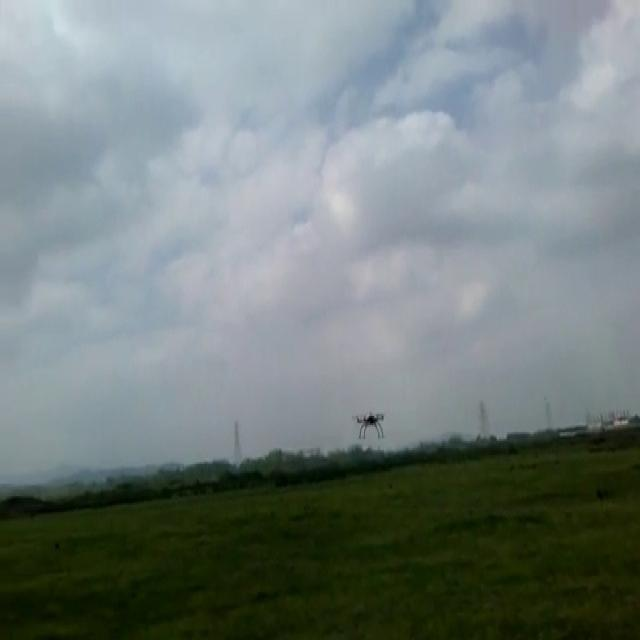drone: (350, 407, 386, 443)
